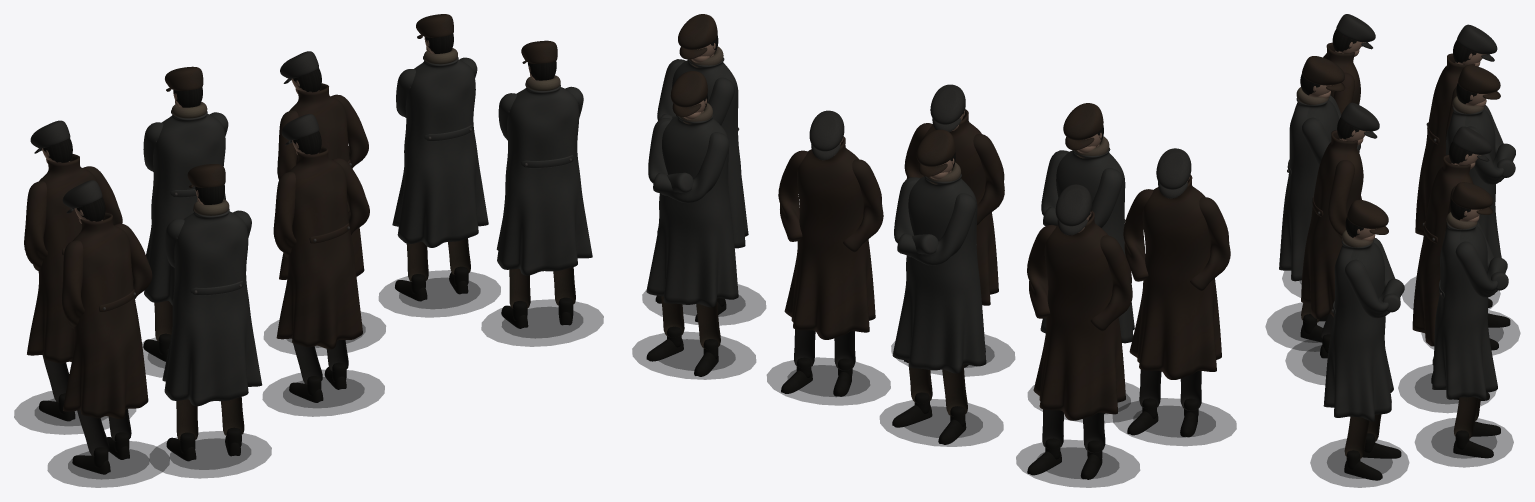
File: works-no-2-men.glb
3 renders of one model, left to right at view 1: azimuth 30°, elevation 25°; view 2: azimuth 150°, elevation 25°; view 3: azimuth 270°, elevation 25°, orthographic. The views are drawn at different scales.
Visible parts, largest first — view 1: worker-arms-folded-body.004, worker-arms-folded-body.005, worker-hands-in-pockets-body.005, worker-hands-in-pockets-body.006, worker-arms-folded-body.003, worker-hands-in-pockets-body.003, worker-arms-folded-body.002, worker-hands-in-pockets-body.004, no-2-man-8-foot-shadow, no-2-man-6-foot-shadow, no-2-man-4-foot-shadow, no-2-man-7-foot-shadow (+3 smaller); view 2: worker-hands-in-pockets-body.003, worker-hands-in-pockets-body.005, worker-arms-folded-body.002, worker-hands-in-pockets-body.004, worker-arms-folded-body.003, worker-arms-folded-body.004, worker-hands-in-pockets-body.006, worker-arms-folded-body.005, no-2-man-3-foot-shadow, no-2-man-5-foot-shadow, no-2-man-1-foot-shadow, no-2-man-4-foot-shadow (+4 smaller); view 3: worker-arms-folded-body.005, worker-arms-folded-body.003, worker-hands-in-pockets-body.006, worker-arms-folded-body.004, worker-hands-in-pockets-body.004, worker-arms-folded-body.002, worker-hands-in-pockets-body.003, no-2-man-4-foot-shadow, no-2-man-8-foot-shadow, worker-hands-in-pockets-body.005, no-2-man-3-foot-shadow, no-2-man-6-foot-shadow (+4 smaller).
Boxes of the visible parts, <box> form: worker-arms-folded-body.004: <box>162,164,262,460</box>; worker-arms-folded-body.005: <box>496,40,592,328</box>; worker-hands-in-pockets-body.005: <box>62,180,152,474</box>; worker-hands-in-pockets-body.006: <box>273,114,369,402</box>; worker-arms-folded-body.003: <box>392,14,488,301</box>; worker-hands-in-pockets-body.003: <box>24,120,122,420</box>; worker-arms-folded-body.002: <box>143,66,228,361</box>; worker-hands-in-pockets-body.004: <box>277,51,368,279</box>; no-2-man-8-foot-shadow: <box>481,299,603,346</box>; no-2-man-6-foot-shadow: <box>150,431,271,478</box>; no-2-man-4-foot-shadow: <box>379,270,500,317</box>; no-2-man-7-foot-shadow: <box>262,370,384,416</box>; worker-hands-in-pockets-body.003: <box>1027,184,1132,479</box>; worker-hands-in-pockets-body.005: <box>1123,148,1230,436</box>; worker-arms-folded-body.002: <box>892,129,986,444</box>; worker-hands-in-pockets-body.004: <box>778,110,883,396</box>; worker-arms-folded-body.003: <box>646,71,738,376</box>; worker-arms-folded-body.004: <box>1040,103,1134,413</box>; worker-hands-in-pockets-body.006: <box>904,84,1004,367</box>; worker-arms-folded-body.005: <box>655,14,748,322</box>; no-2-man-3-foot-shadow: <box>767,357,890,405</box>; no-2-man-5-foot-shadow: <box>1113,398,1236,445</box>; no-2-man-1-foot-shadow: <box>1016,440,1139,487</box>; no-2-man-4-foot-shadow: <box>632,332,755,379</box>; worker-arms-folded-body.005: <box>1323,199,1404,480</box>; worker-arms-folded-body.003: <box>1432,182,1508,458</box>; worker-hands-in-pockets-body.006: <box>1301,102,1379,357</box>; worker-arms-folded-body.004: <box>1279,56,1360,341</box>; worker-hands-in-pockets-body.004: <box>1412,126,1491,400</box>; worker-arms-folded-body.002: <box>1446,65,1515,350</box>; worker-hands-in-pockets-body.003: <box>1415,24,1497,307</box>; no-2-man-4-foot-shadow: <box>1415,418,1513,467</box>; no-2-man-8-foot-shadow: <box>1310,439,1409,487</box>; worker-hands-in-pockets-body.005: <box>1323,14,1375,199</box>; no-2-man-3-foot-shadow: <box>1398,364,1496,412</box>; no-2-man-6-foot-shadow: <box>1265,303,1325,350</box>.
Bounding box in the file's own units: 3.62 × 1.92 × 1.54.
12 materials, 9 textured.
